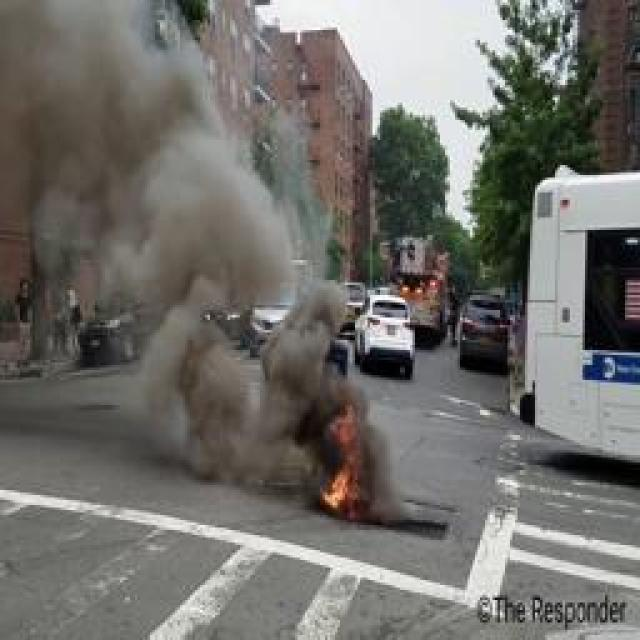Fire: (308, 391, 384, 527)
